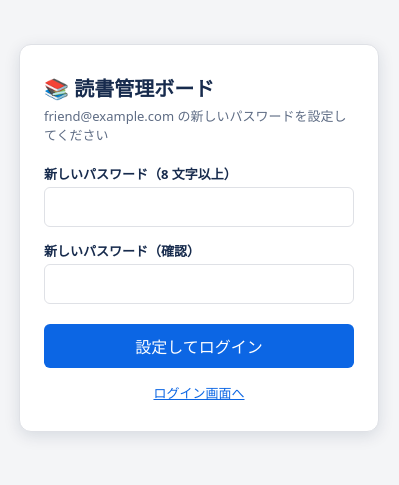
it: ResetPasswordView › 無効なリンクのエラーを表示する
Type "new-password" into the password field labelled "新しいパスワード（8 文字以上）" at (199, 207), box [44,187,354,227]
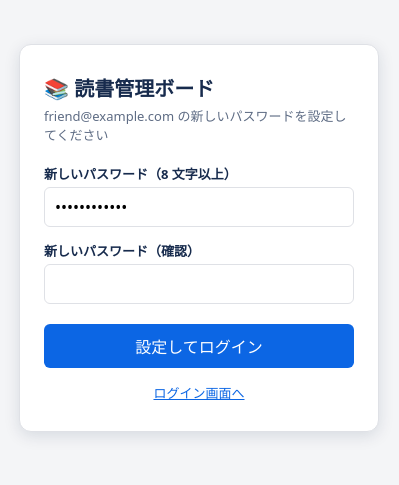
Type "new-password" into the password field labelled "新しいパスワード（確認）" at (199, 284), box [44,264,354,304]
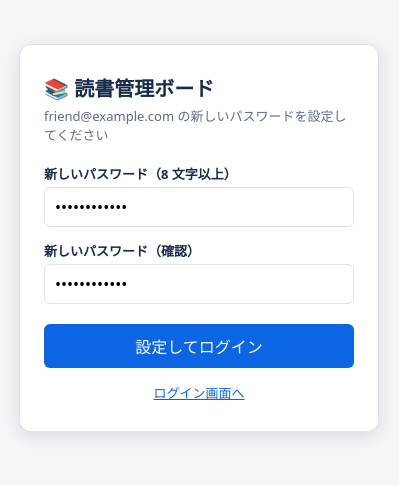
Submit the form
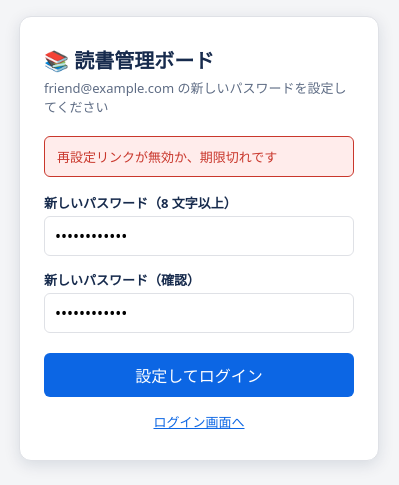
Result: the message "再設定リンクが無効か、期限切れです" is shown at [44,136,354,176]
